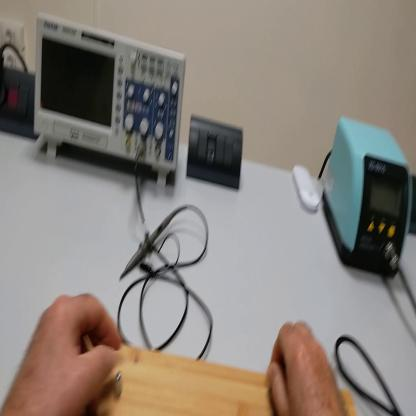hand: (3, 293, 125, 416), (265, 322, 350, 413)
oscilloscope: (30, 14, 188, 193)
oscilloscope probe tip: (120, 208, 181, 281)
socket: (2, 61, 40, 142), (408, 172, 416, 240)
welder station: (323, 121, 413, 283)
working area: (18, 322, 363, 416)
